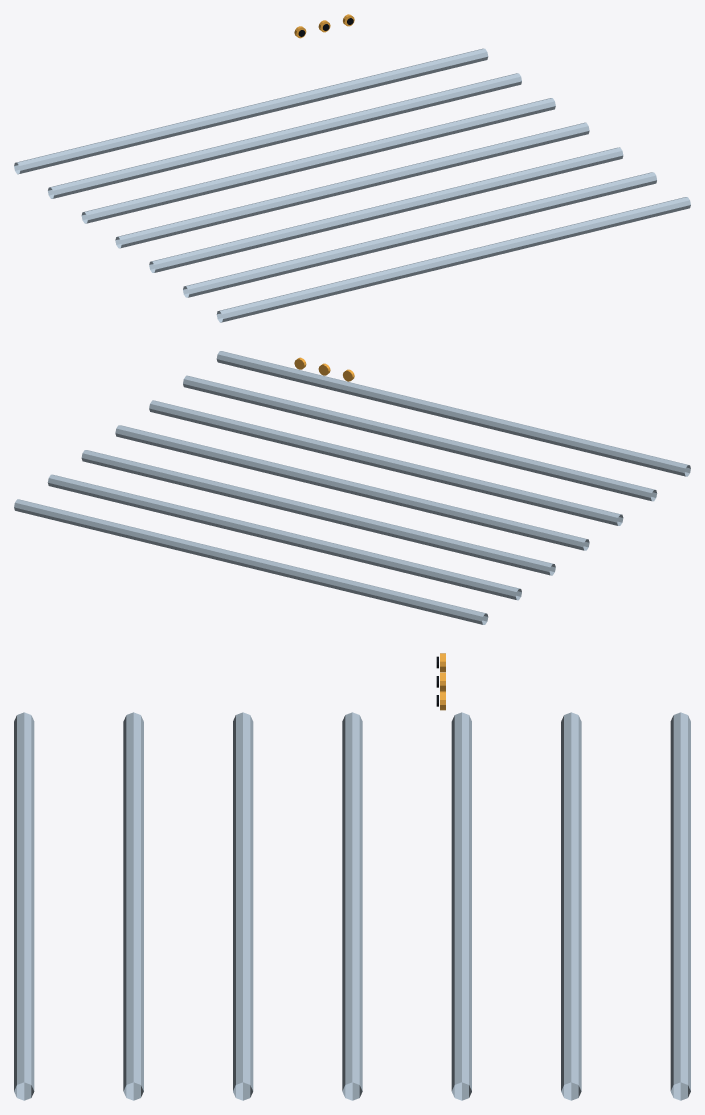
File: 12_L90_PropulsionBayRailArray.fbx
3 renders of one model, top to bottom at view 1: azimuth 30°, elevation 25°; view 2: azimuth 150°, elevation 25°; view 3: azimuth 270°, elevation 25°, orthographic. The views are drawn at different scales.
Visible parts, largest first — view 1: L90_PropulsionBayRailArray; view 2: L90_PropulsionBayRailArray; view 3: L90_PropulsionBayRailArray.
Boxes of the visible parts, x1,y1,x2,y2 form: L90_PropulsionBayRailArray: (14, 48, 690, 322); L90_PropulsionBayRailArray: (14, 351, 690, 624); L90_PropulsionBayRailArray: (14, 712, 690, 1100).
Size of the model in its own units: 600 by 184 by 464.
